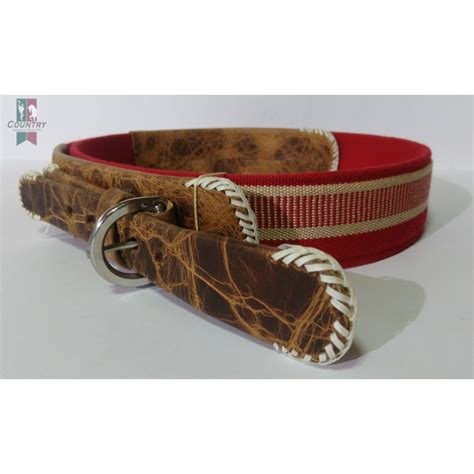cuero: (19, 127, 356, 367)
